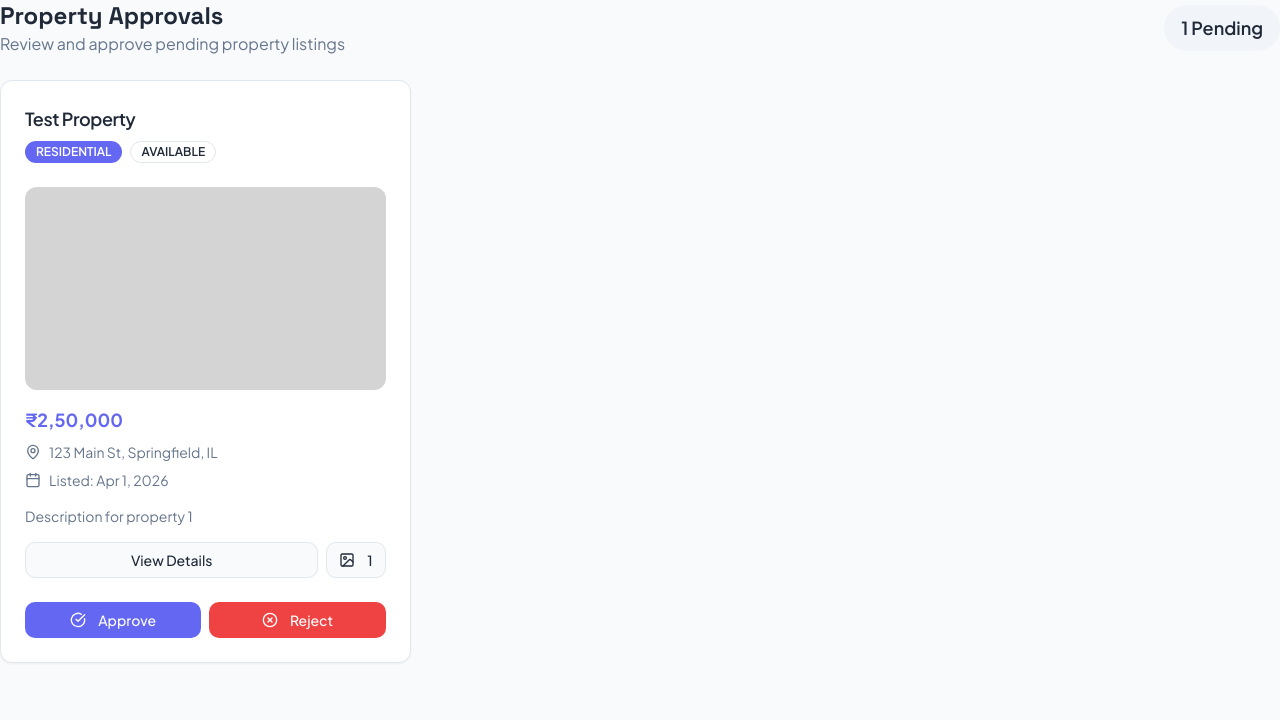
Test: PropertyApprovalList › should open dialog with reason input when reject button is clicked
Expected: the text "Test Property" is shown, [25, 107, 135, 130]
Click the button "Reject". click: (297, 620)
box: [209, 602, 386, 638]
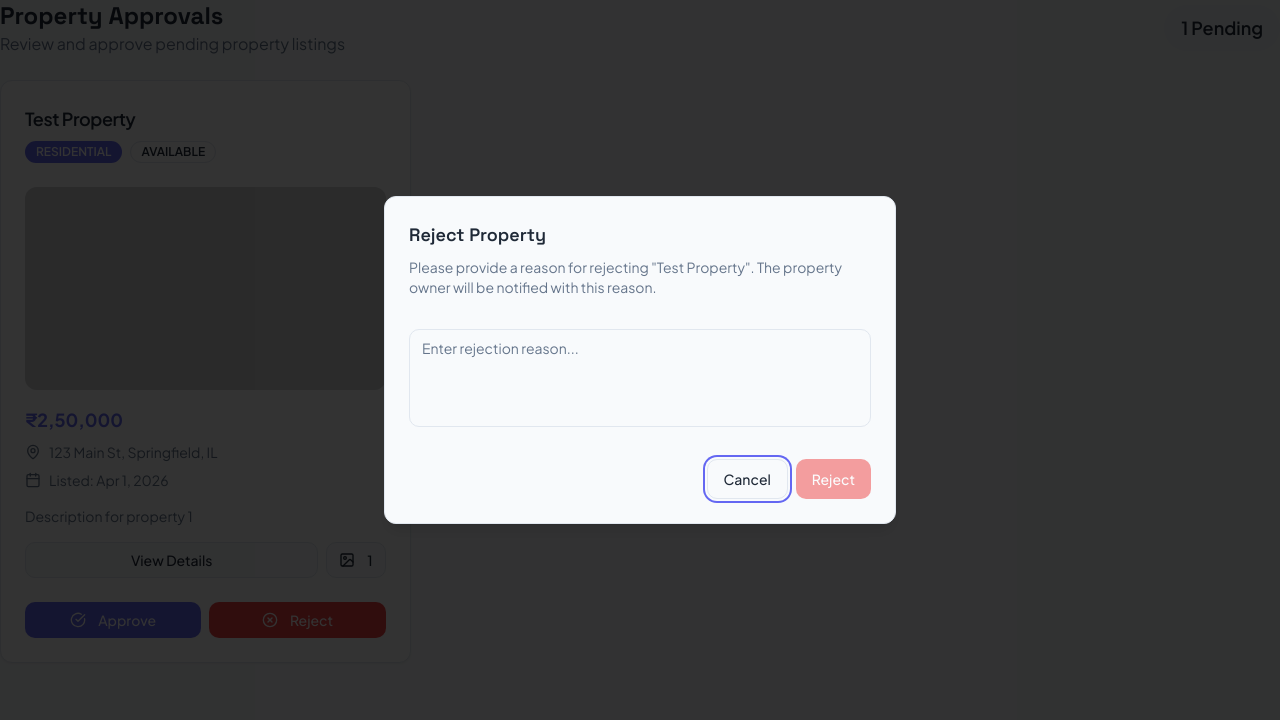
Expected: the text "Please provide a reason for rejecting" is shown, [409, 258, 657, 276]
Expected: the text box with placeholder "Enter rejection reason..." is shown, [409, 329, 871, 427]
